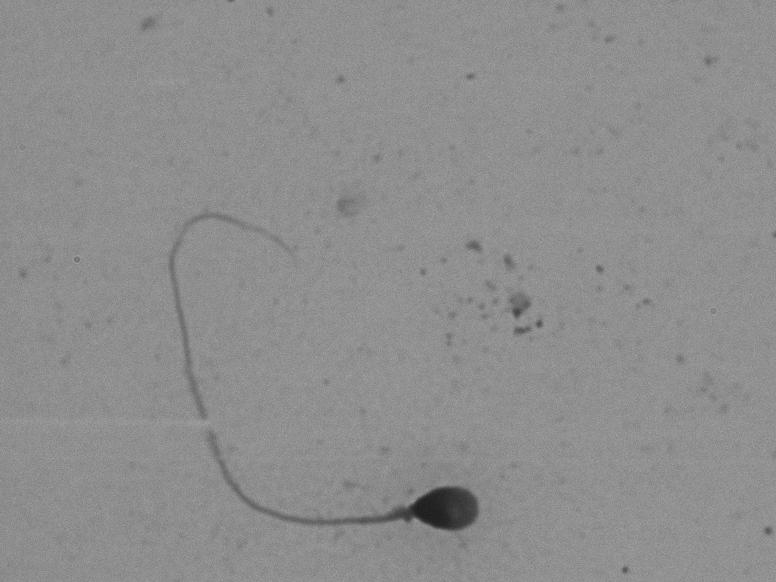Normal: (137, 205, 498, 551)
